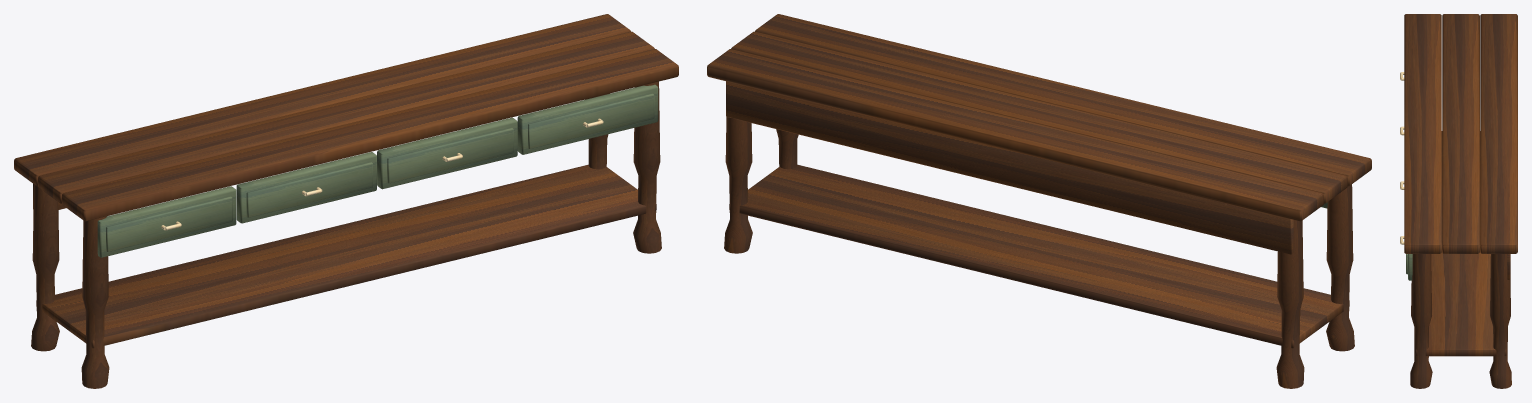
Rendered from CM_AF01_PreparationBench.fbx.
The picture shows the model from 3 angles, left to right: view 1: azimuth 30°, elevation 25°; view 2: azimuth 150°, elevation 25°; view 3: azimuth 270°, elevation 25°; orthographic projection. The views are drawn at different scales.
Visible parts, largest first — view 1: CM_AF01_PreparationBench; view 2: CM_AF01_PreparationBench; view 3: CM_AF01_PreparationBench.
Boxes of the visible parts, bbox=[...] form: CM_AF01_PreparationBench: bbox=[14, 14, 678, 388]; CM_AF01_PreparationBench: bbox=[707, 14, 1371, 388]; CM_AF01_PreparationBench: bbox=[1400, 14, 1517, 388].
Size of the model in its own units: 3.26 by 0.9725 by 0.7015.
